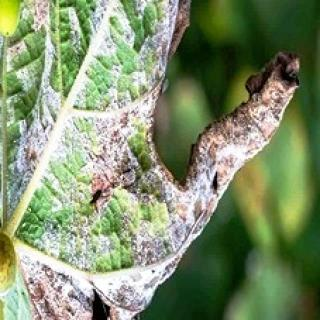grey mildew: (13, 10, 302, 296)
